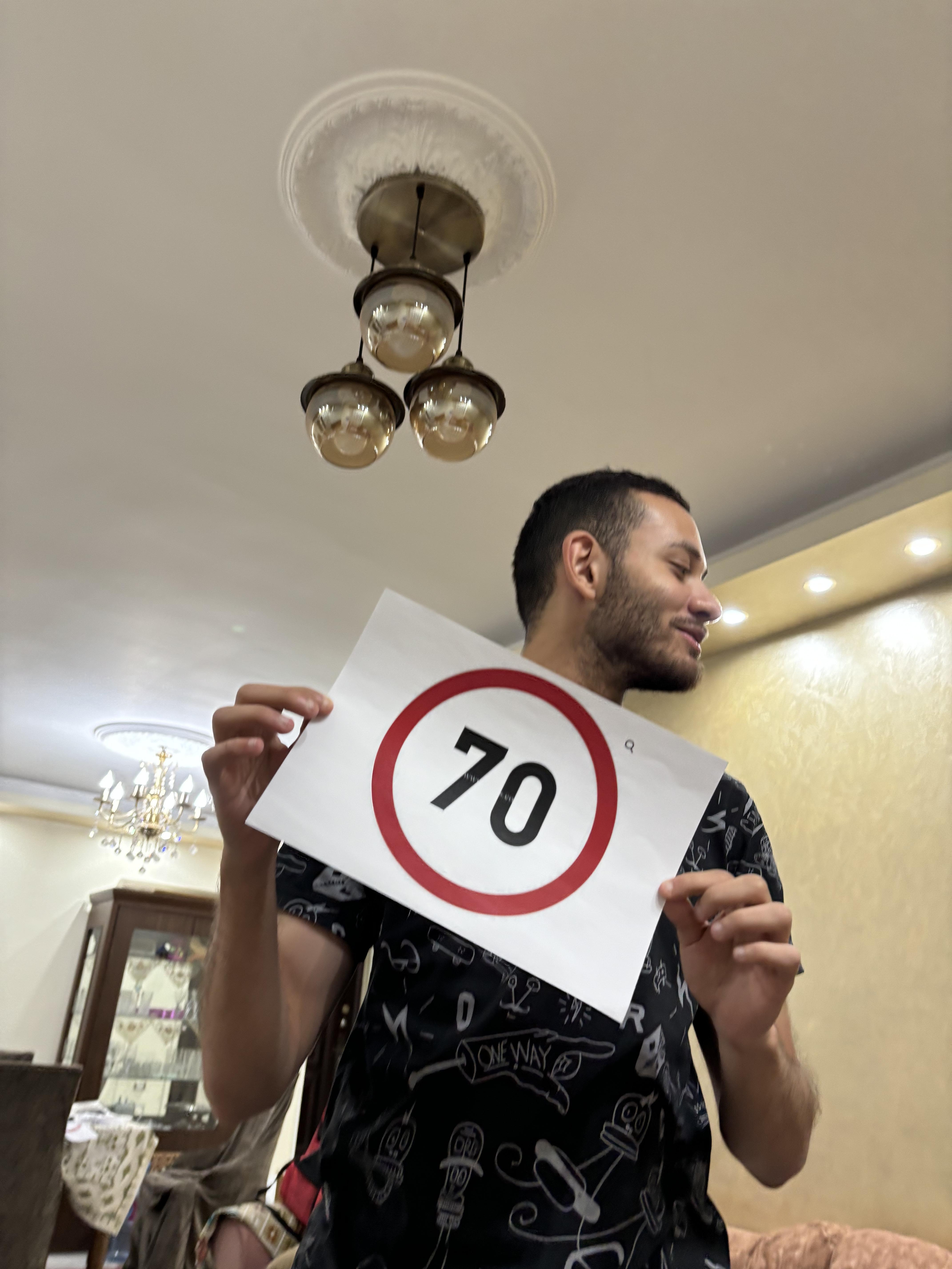70-Speed: (367, 660, 626, 918)
